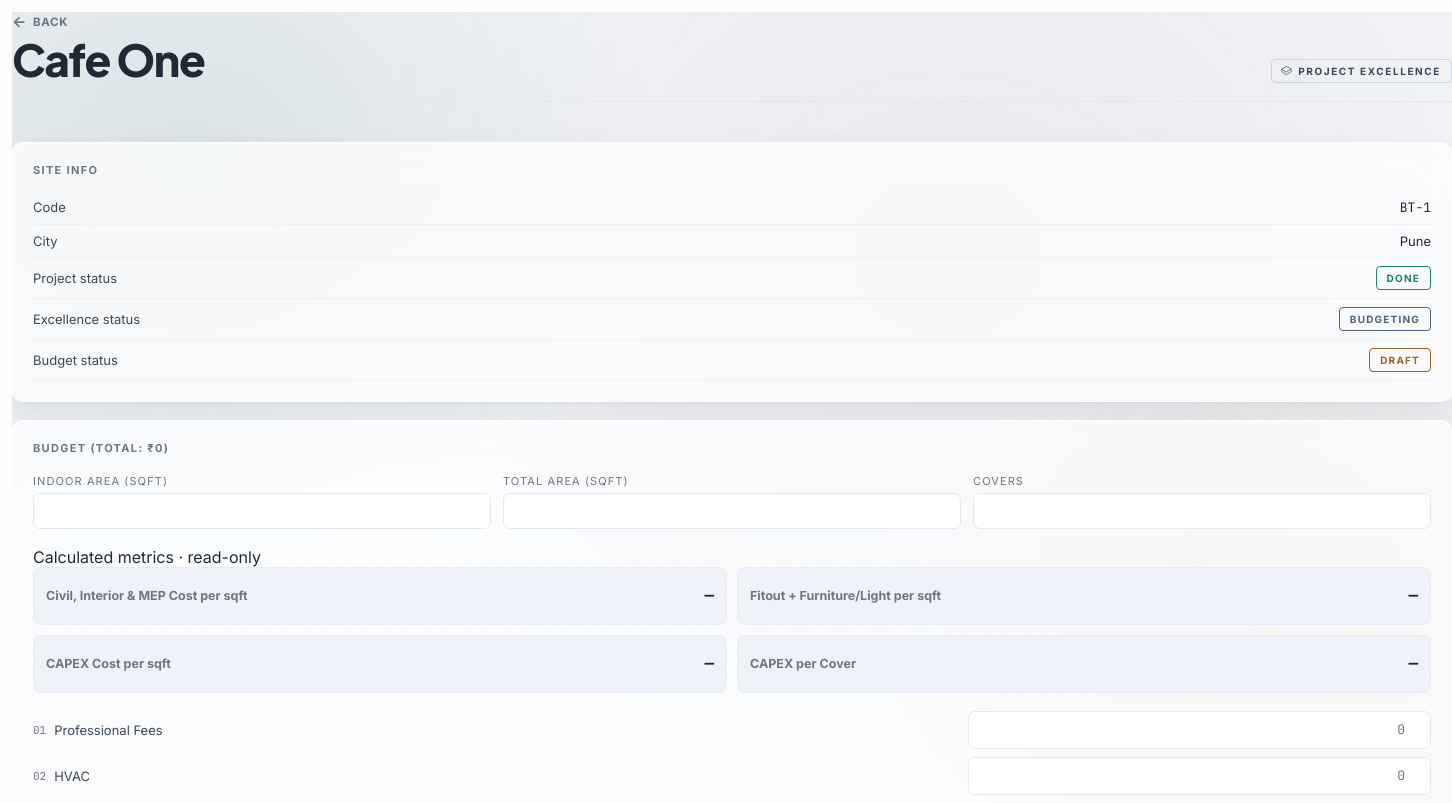
budget dirty-guard › re-syncs from the server after a successful save (dirty cleared)
The image size is (1452, 803).
Type "999" into the number field with placeholder "0" in the row of "Professional Fees" at (1200, 730), box 968,711 -> 1431,749
(page scrolled)
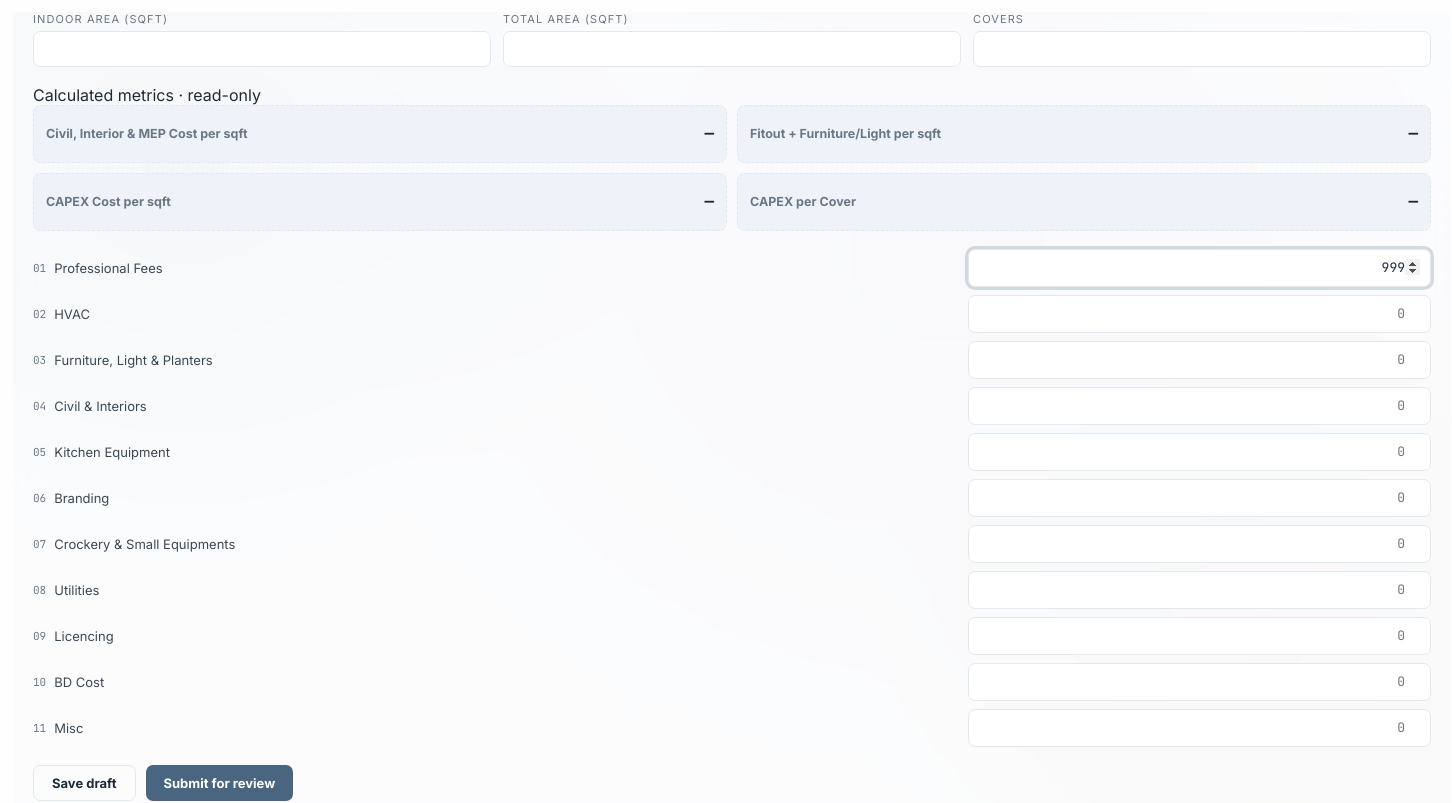
Click the button "Save draft" at (84, 783), box 33,765 -> 136,801
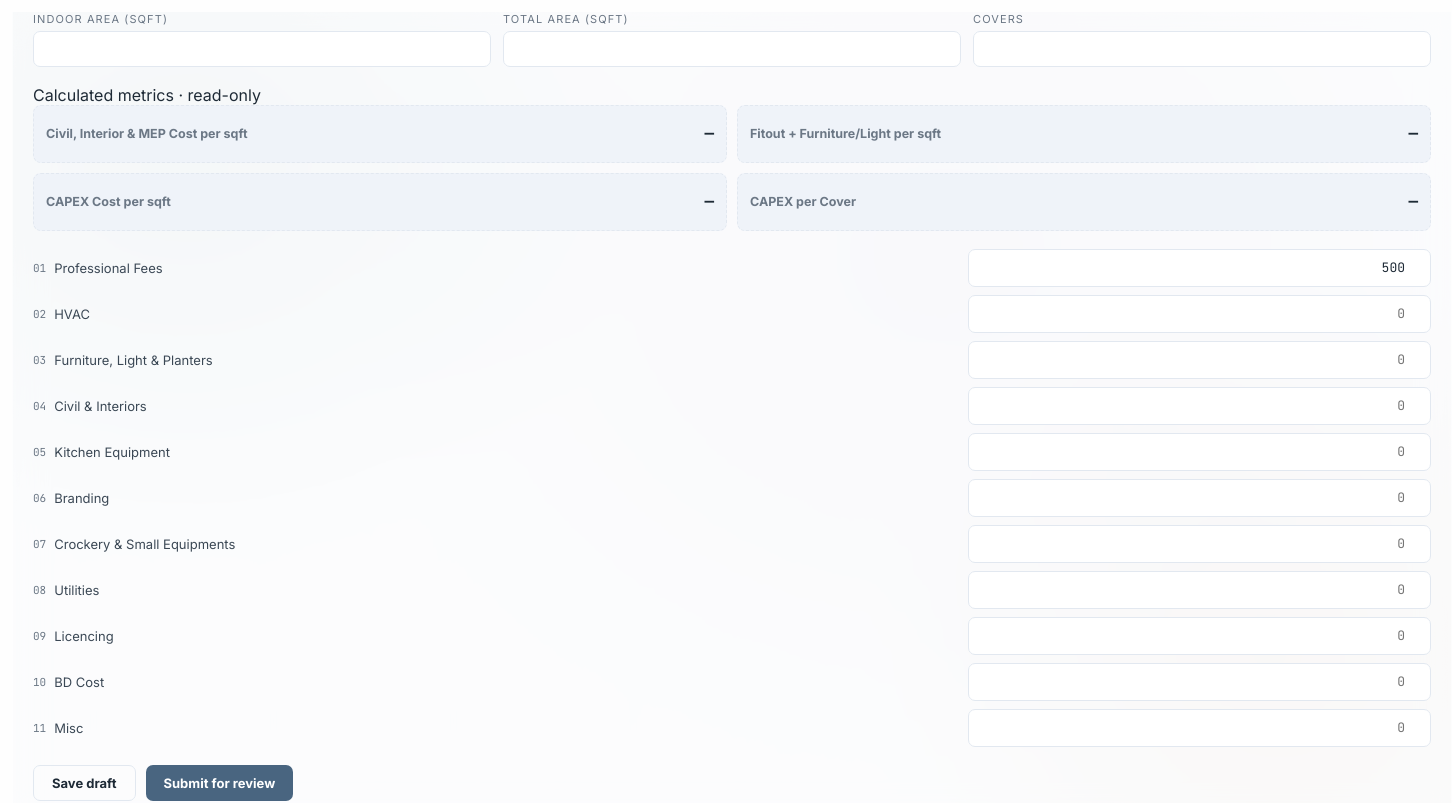
Check: the number field showing "500" in the row of "Professional Fees" is shown, box 968,249 -> 1431,287
